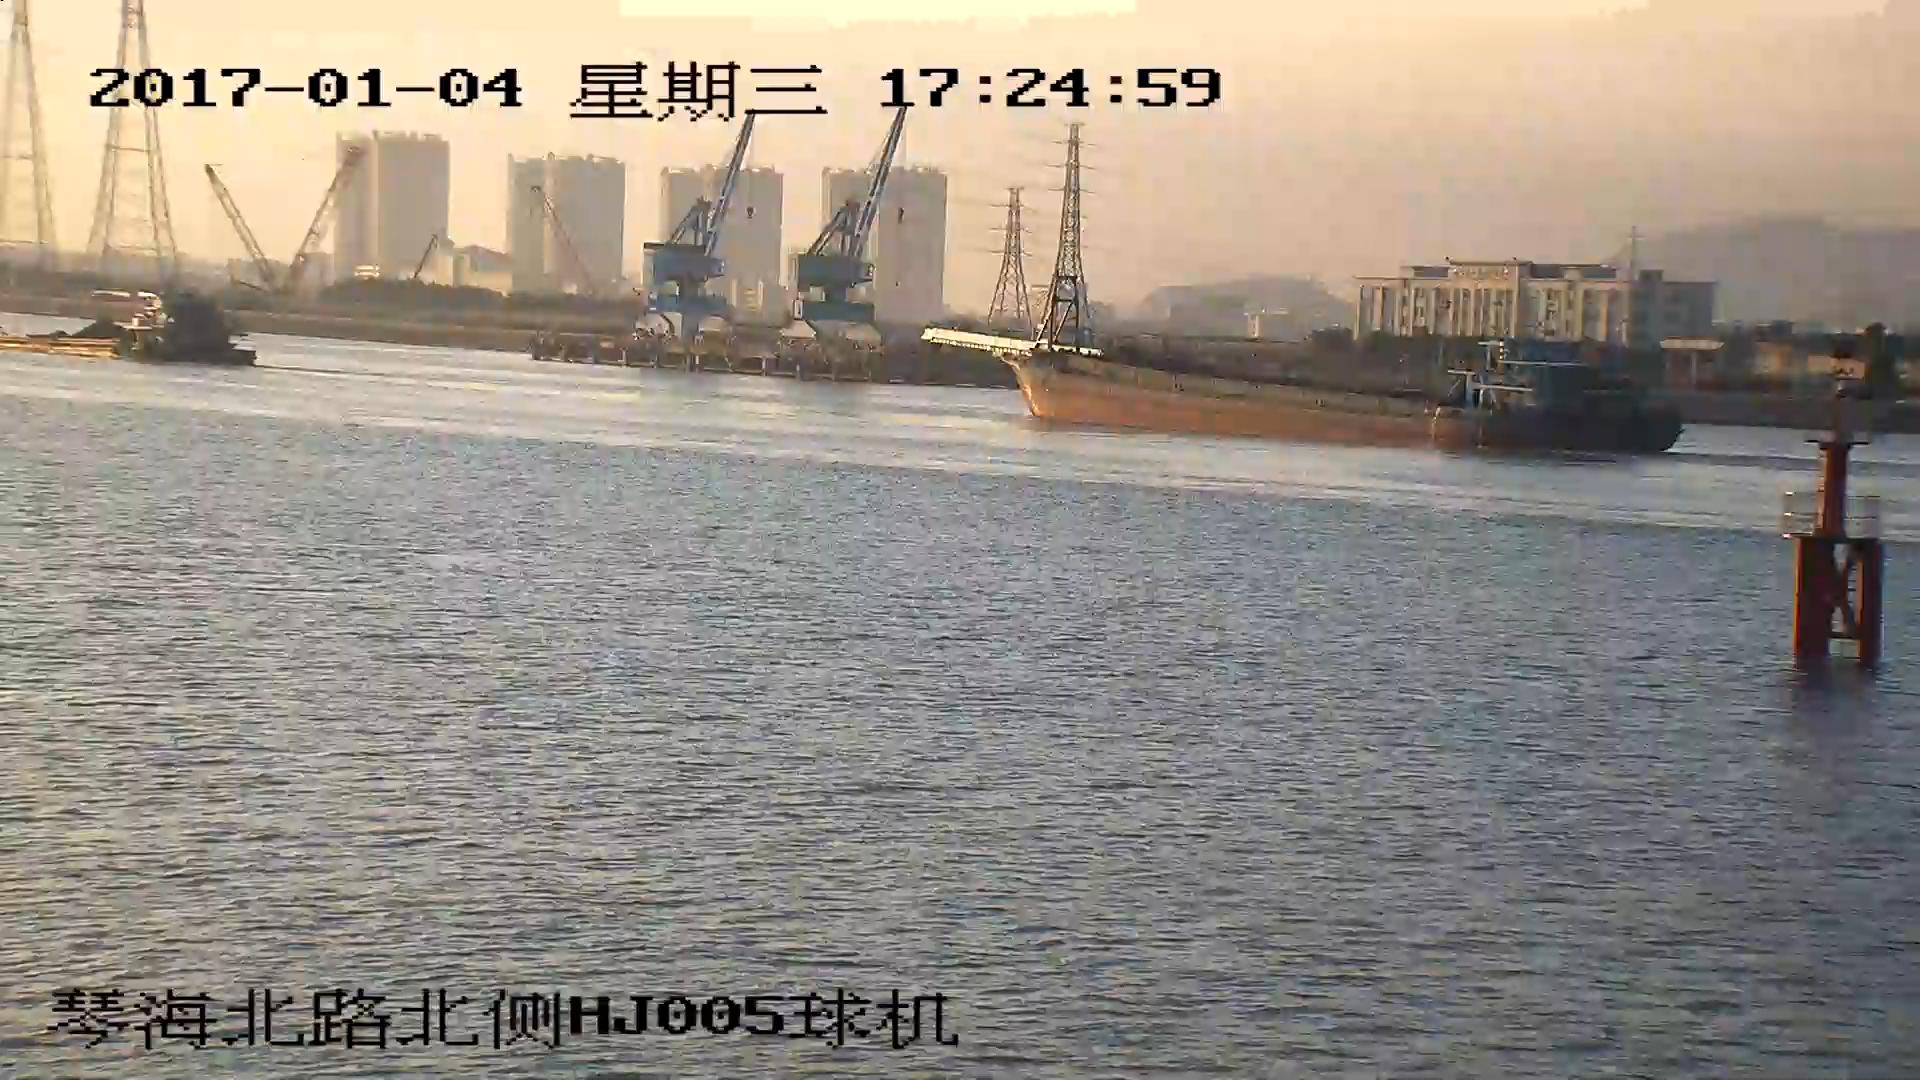bulk cargo carrier: (922, 330, 1686, 452)
ore carrier: (1, 304, 254, 363)
